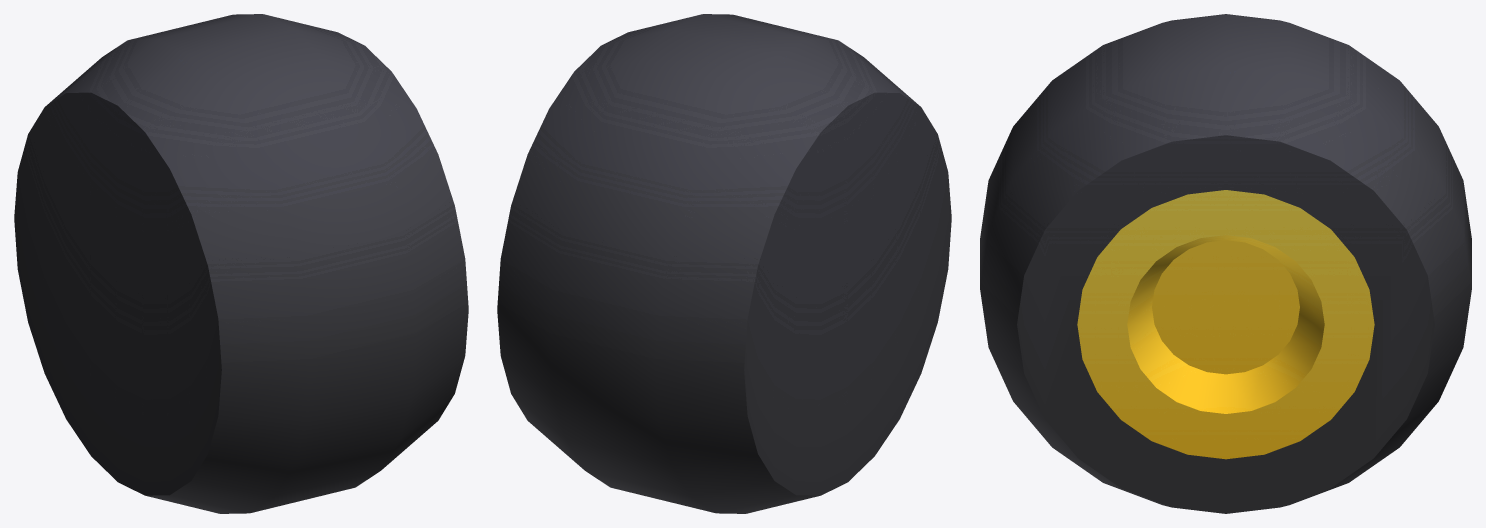
File: YellowWheel.glb
3 views of the same model, side by side, from view 1: azimuth 30°, elevation 25°; view 2: azimuth 150°, elevation 25°; view 3: azimuth 270°, elevation 25° (orthographic).
Parts seen in each view (by area): view 1: wheel-front-left; view 2: wheel-front-left; view 3: wheel-front-left.
Part boxes in pixels (bbox=[...]): wheel-front-left: bbox=[14, 14, 468, 513]; wheel-front-left: bbox=[497, 14, 951, 513]; wheel-front-left: bbox=[980, 14, 1471, 513].
Bounding box in the file's own units: 0.35 × 0.6 × 0.6.
Materials: 1 (1 with a texture image).
